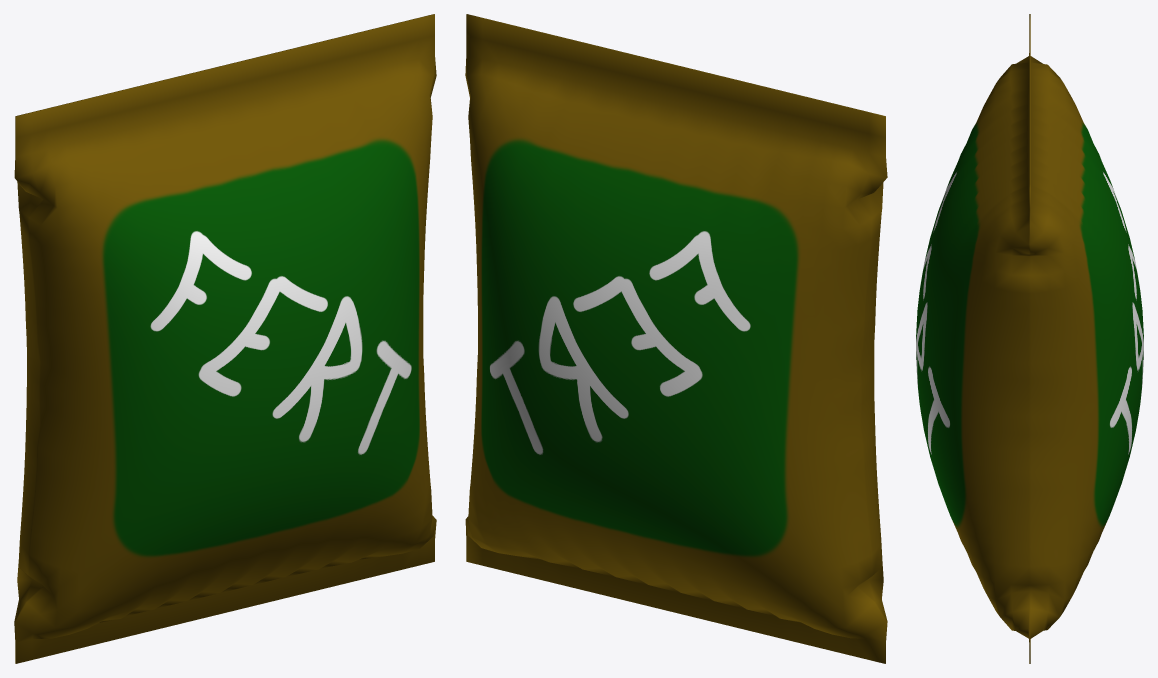
Rendered from Fert.fbx.
The picture shows the model from 3 angles, left to right: view 1: azimuth 30°, elevation 25°; view 2: azimuth 150°, elevation 25°; view 3: azimuth 270°, elevation 25°; orthographic projection. The views are drawn at different scales.
Parts seen in each view (by area): view 1: Fert; view 2: Fert; view 3: Fert.
Boxes of the visible parts, x1=… form: Fert: x1=14, y1=14, x2=436, y2=663; Fert: x1=465, y1=14, x2=887, y2=663; Fert: x1=916, y1=14, x2=1143, y2=663.
Bounding box in the file's own units: 1116 × 1385 × 605.
